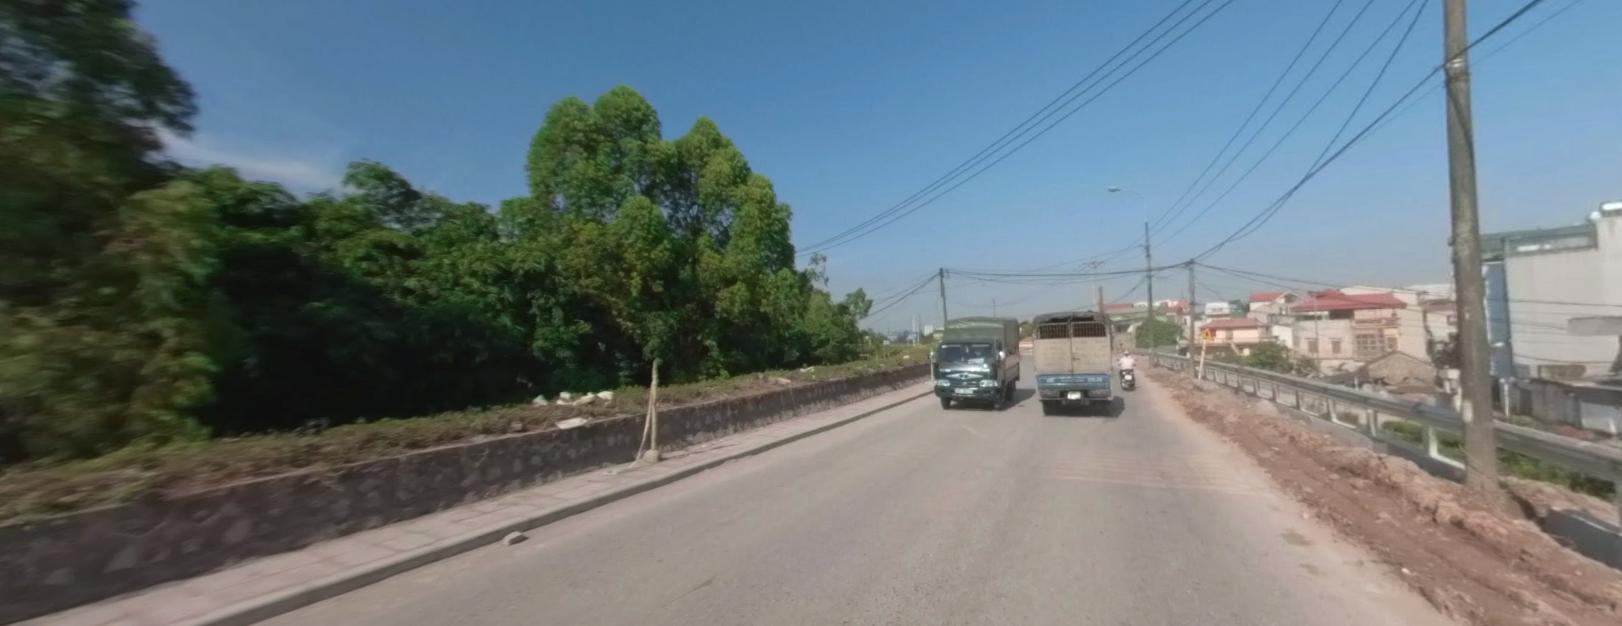Nguy hiem: (1199, 325, 1214, 340)
